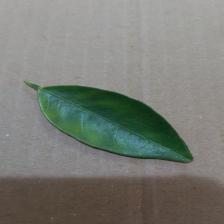greening: (44, 92, 125, 128)
